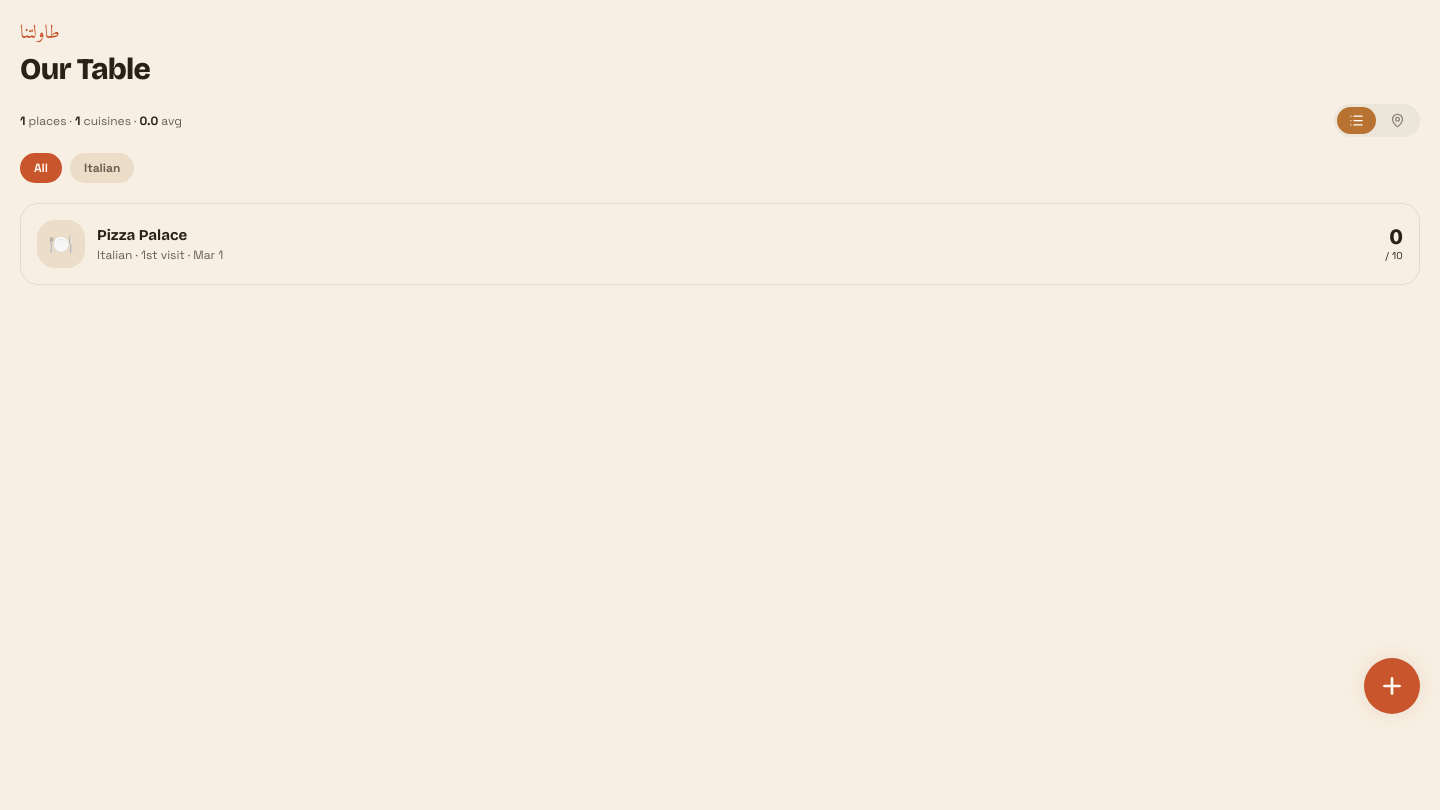
Test: OurTablePage › switches to the map view and back
Check: the text "Pizza Palace" is shown, box left=97, top=226, right=187, bottom=244
Map view replaces the list with the map placeholder
Click the 2nd button at (1398, 120), box left=1378, top=107, right=1417, bottom=134
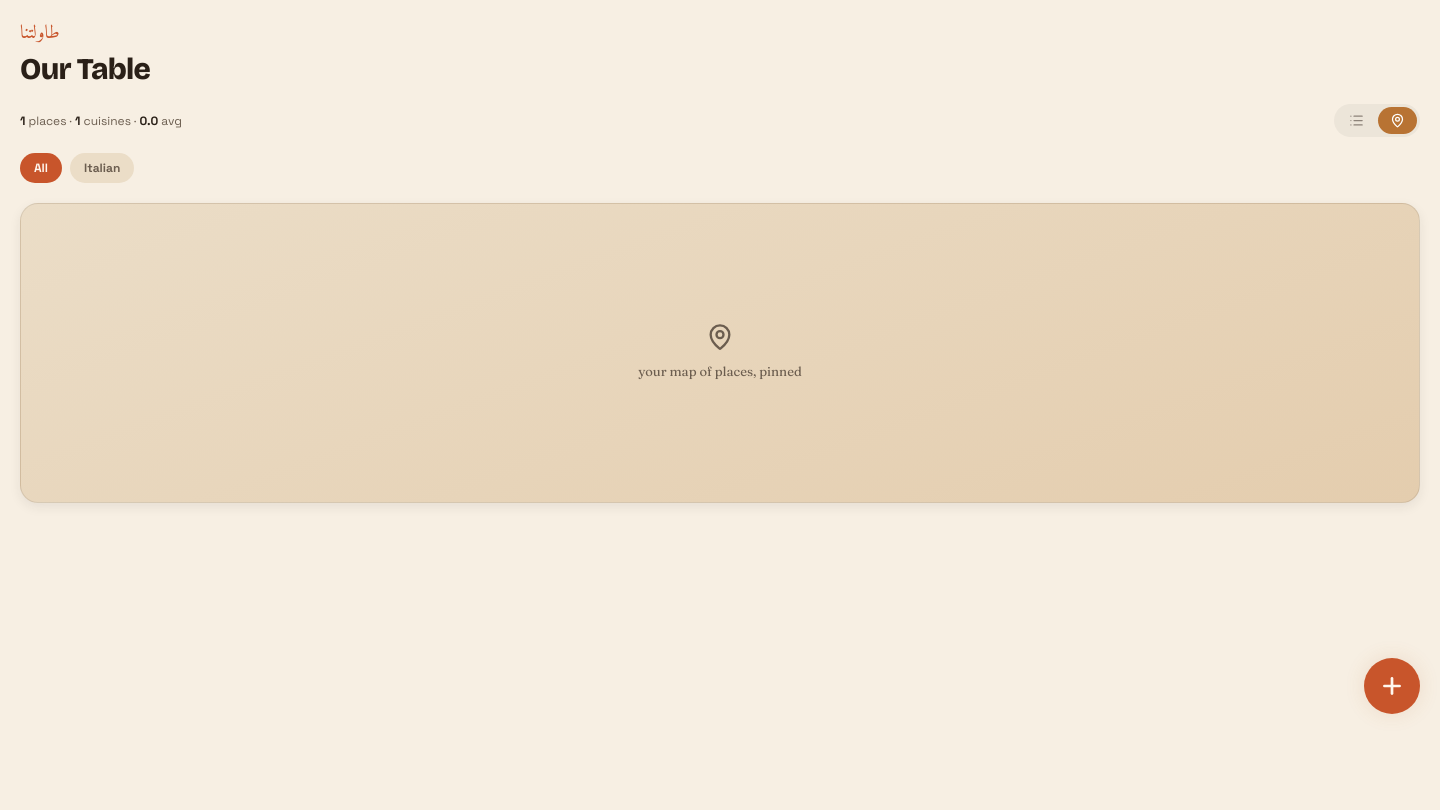
Check: the text "your map of places, pinned" is shown, box left=638, top=363, right=802, bottom=379
Check: the text "Pizza Palace" is gone
Back to list
Click the 1st button at (1356, 120), box left=1337, top=107, right=1376, bottom=134
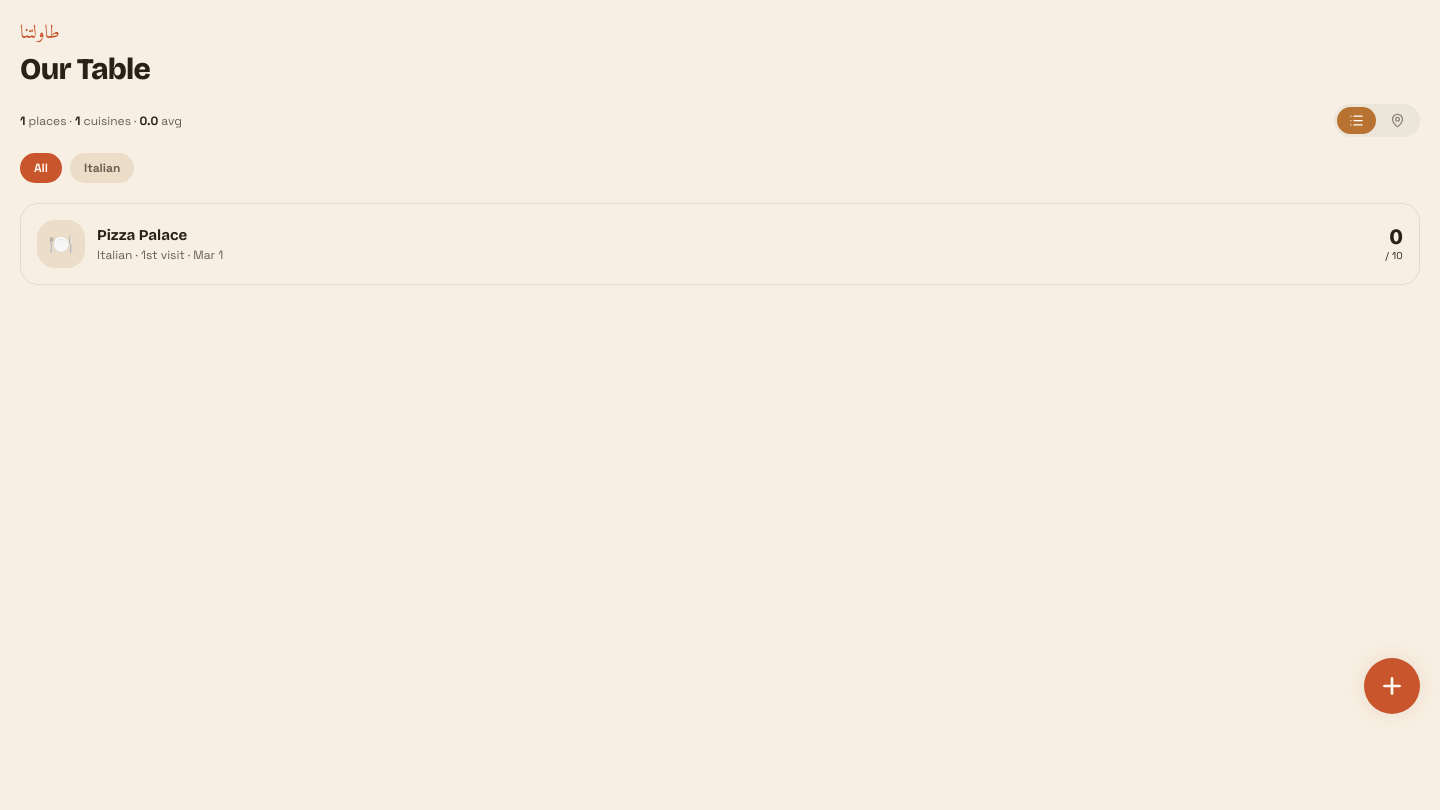
Check: the text "Pizza Palace" is shown, box left=97, top=226, right=187, bottom=244
Check: the text "your map of places, pinned" is gone
